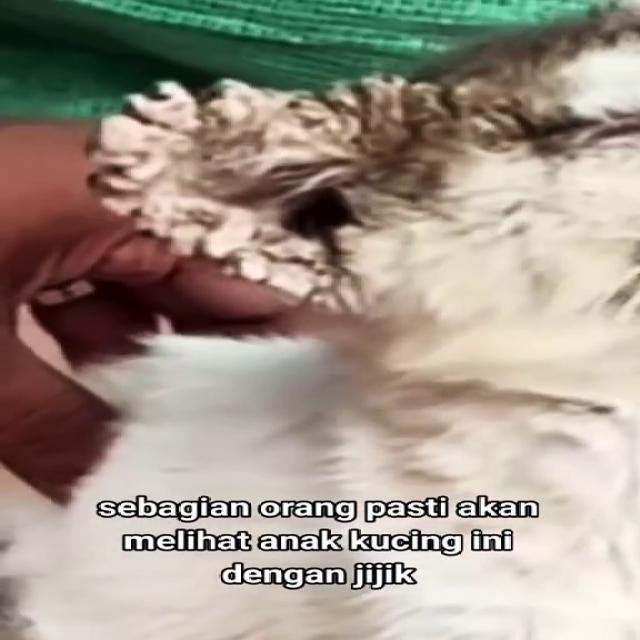ghe: (168, 74, 510, 293)
